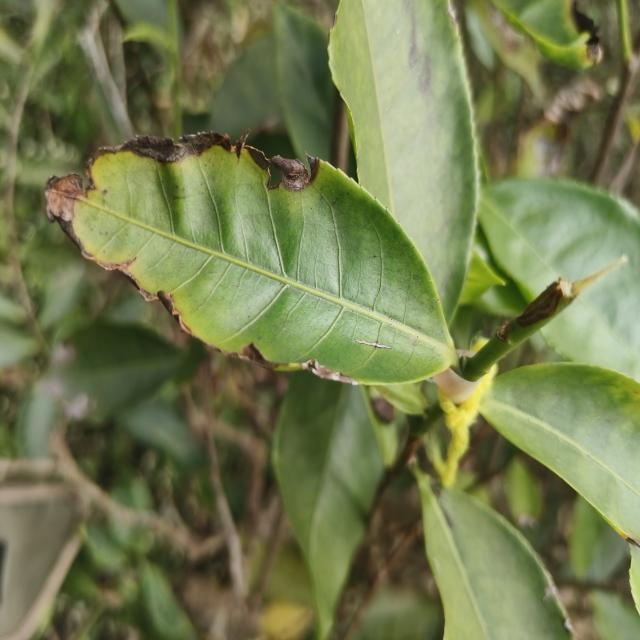Leaf: (47, 133, 457, 383), (328, 0, 479, 320), (479, 179, 640, 381), (273, 373, 384, 640), (480, 363, 640, 544), (414, 468, 572, 640), (48, 322, 181, 420), (274, 6, 335, 161), (505, 457, 541, 529), (589, 591, 640, 640)
